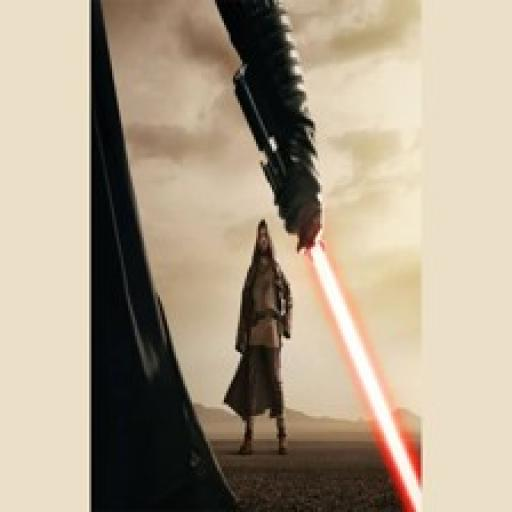human: (223, 220, 298, 454)
sith saber: (232, 53, 420, 512)
